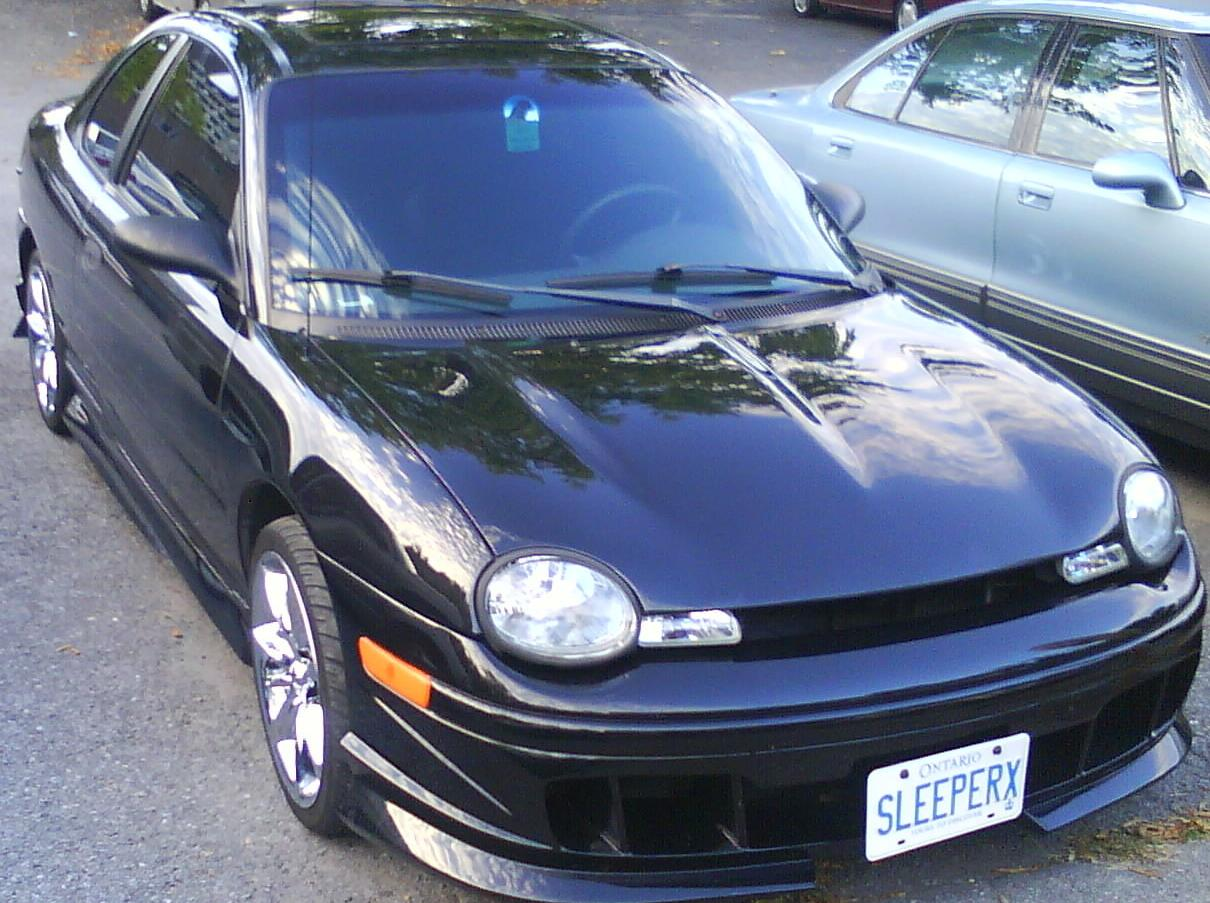front_view: (339, 461, 1190, 873)
headlight: (474, 491, 781, 693)
side_glass: (79, 24, 266, 313)
